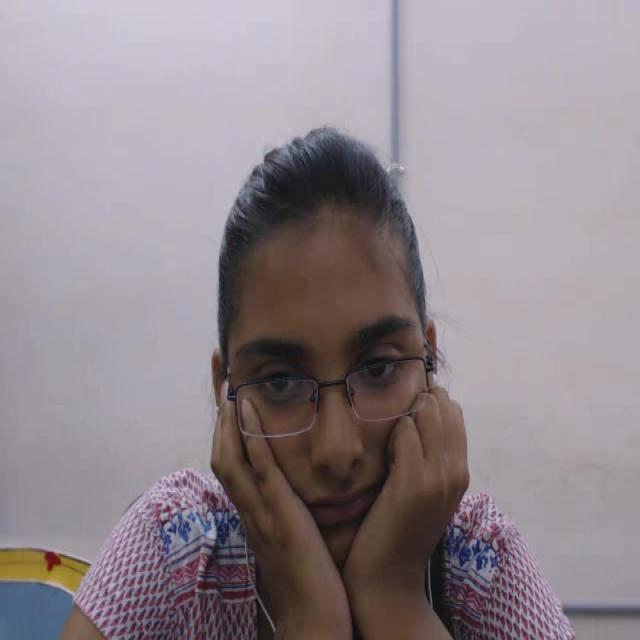Bored: (173, 97, 464, 572)
